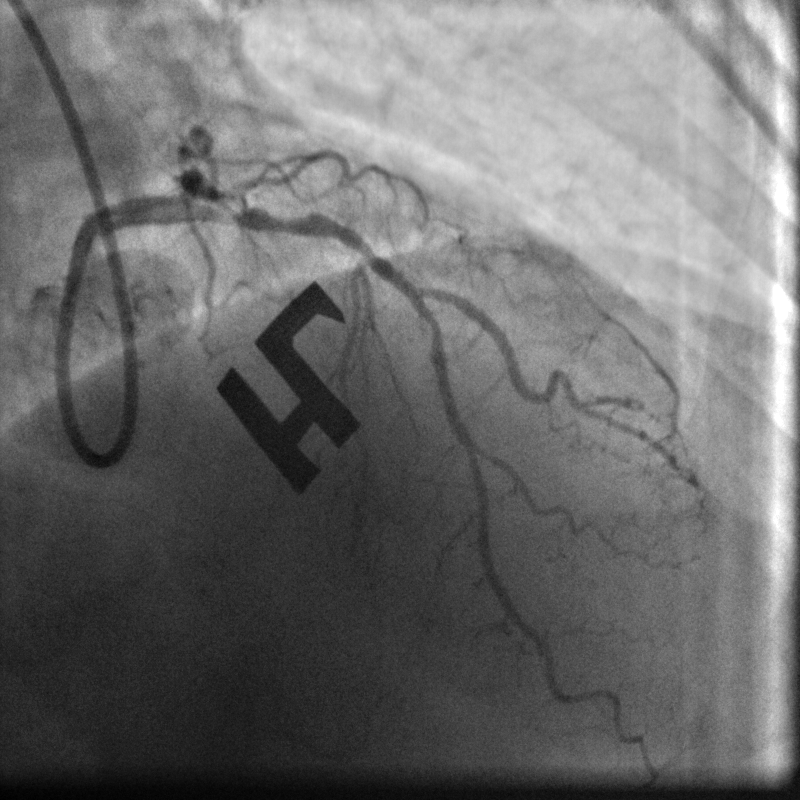Stenosis: (218, 202, 322, 234)
